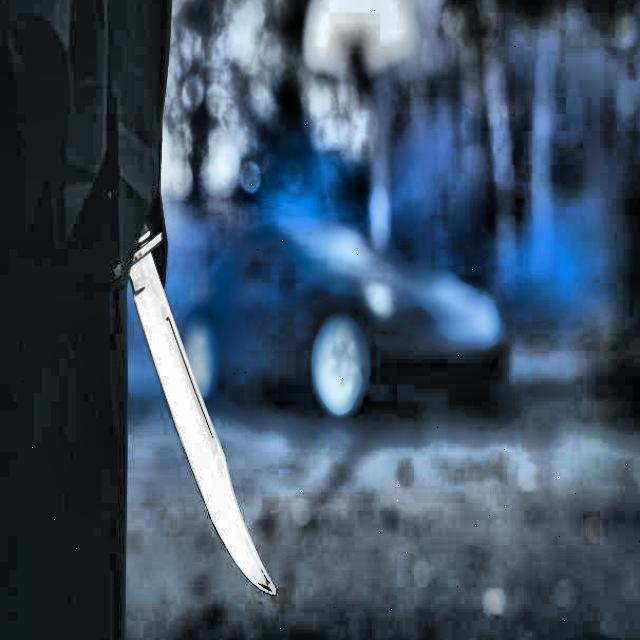knife: (122, 225, 281, 602)
